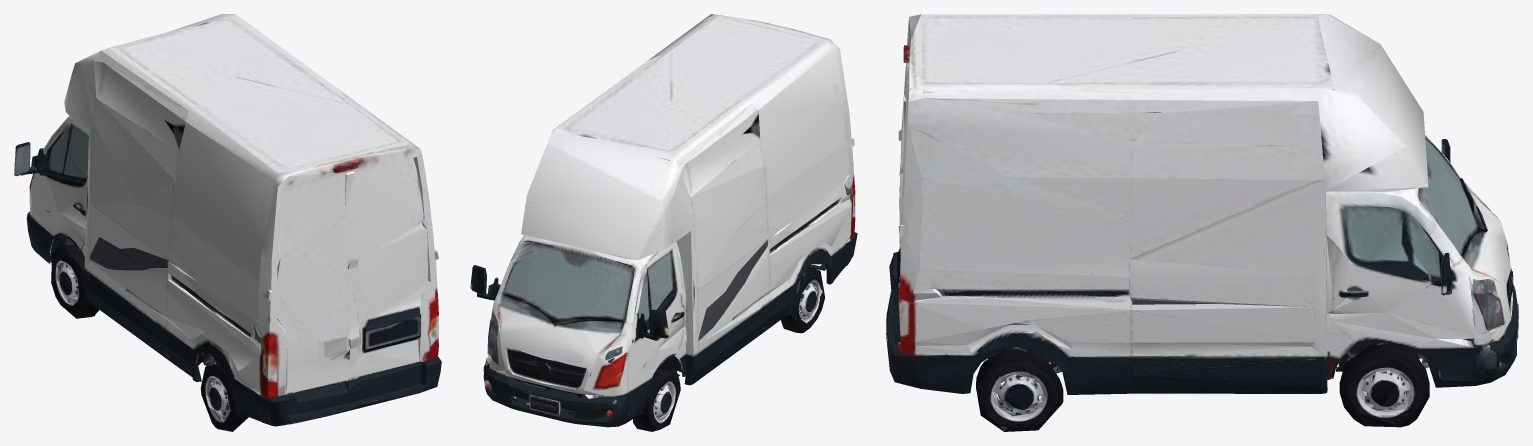
Rendered from teleopVehVan.6e9c71d7.glb.
3 renders of one model, left to right at view 1: azimuth 30°, elevation 25°; view 2: azimuth 150°, elevation 25°; view 3: azimuth 270°, elevation 25°, orthographic. The views are drawn at different scales.
Visible parts, largest first — view 1: output_unwrapped; view 2: output_unwrapped; view 3: output_unwrapped.
Boxes of the visible parts, bbox=[...] form: output_unwrapped: bbox=[14, 14, 441, 431]; output_unwrapped: bbox=[470, 14, 857, 431]; output_unwrapped: bbox=[886, 14, 1518, 431].
Bounding box in the file's own units: 0.895 × 1.12 × 1.9.
2 materials, 1 textured.
